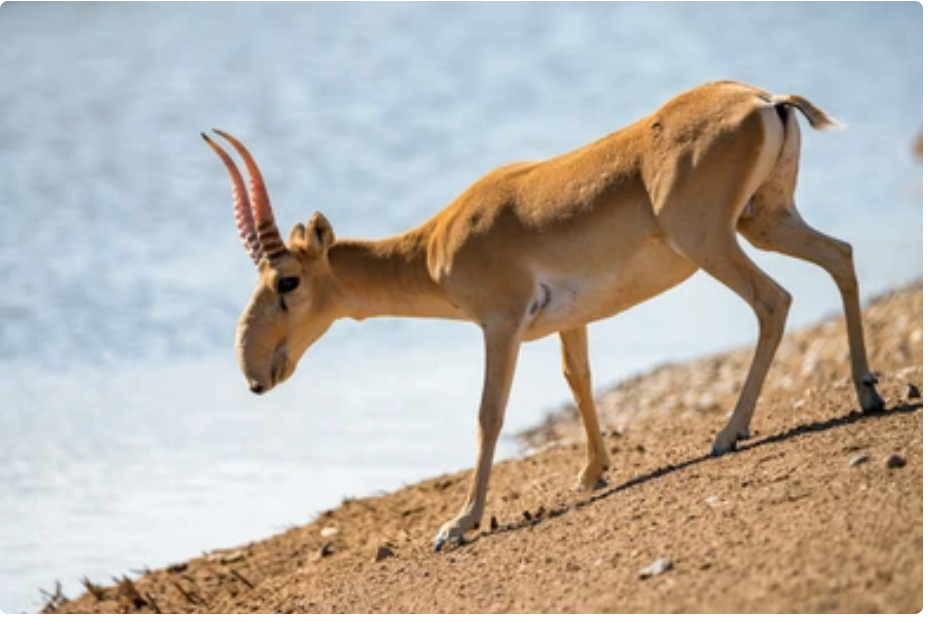saiga: (202, 60, 887, 526)
